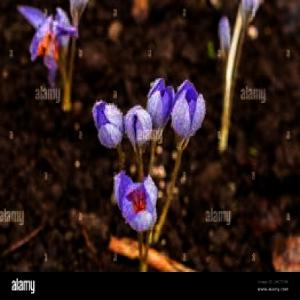Saffron: (170, 80, 208, 156), (116, 171, 158, 238), (149, 78, 173, 144), (92, 102, 126, 148), (129, 102, 152, 150)
